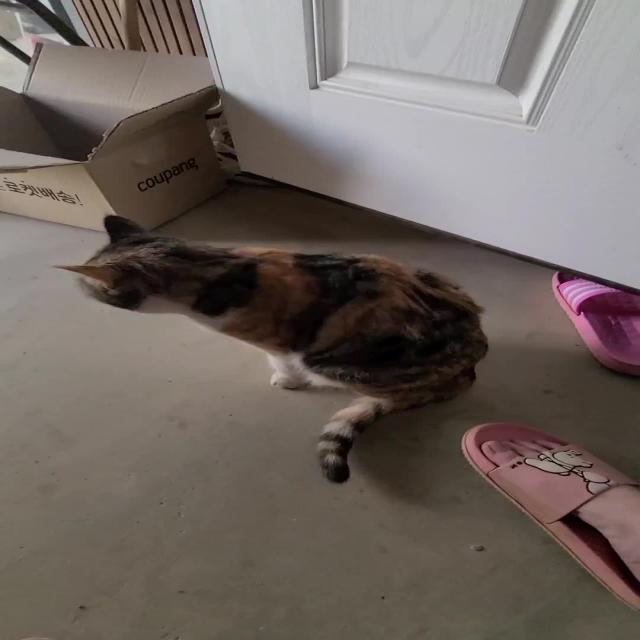cat: (53, 212, 490, 490)
